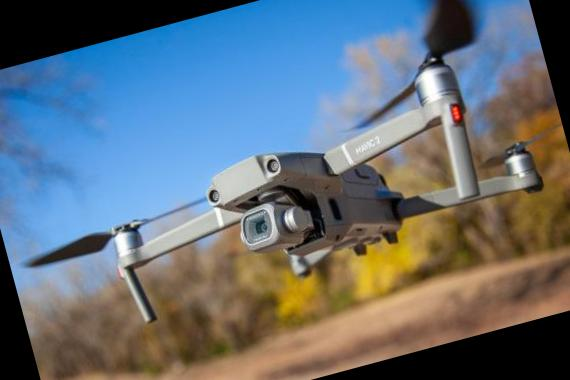drone: (32, 45, 566, 334)
